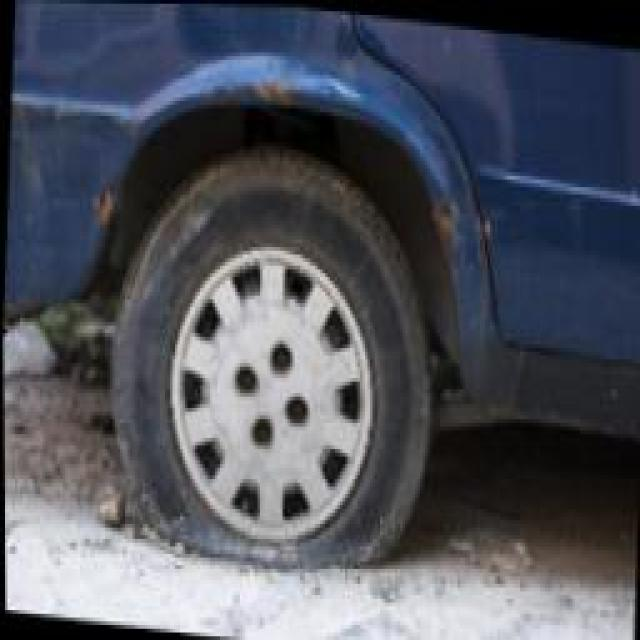Door: (477, 128, 640, 344)
Fender: (3, 56, 492, 367)
